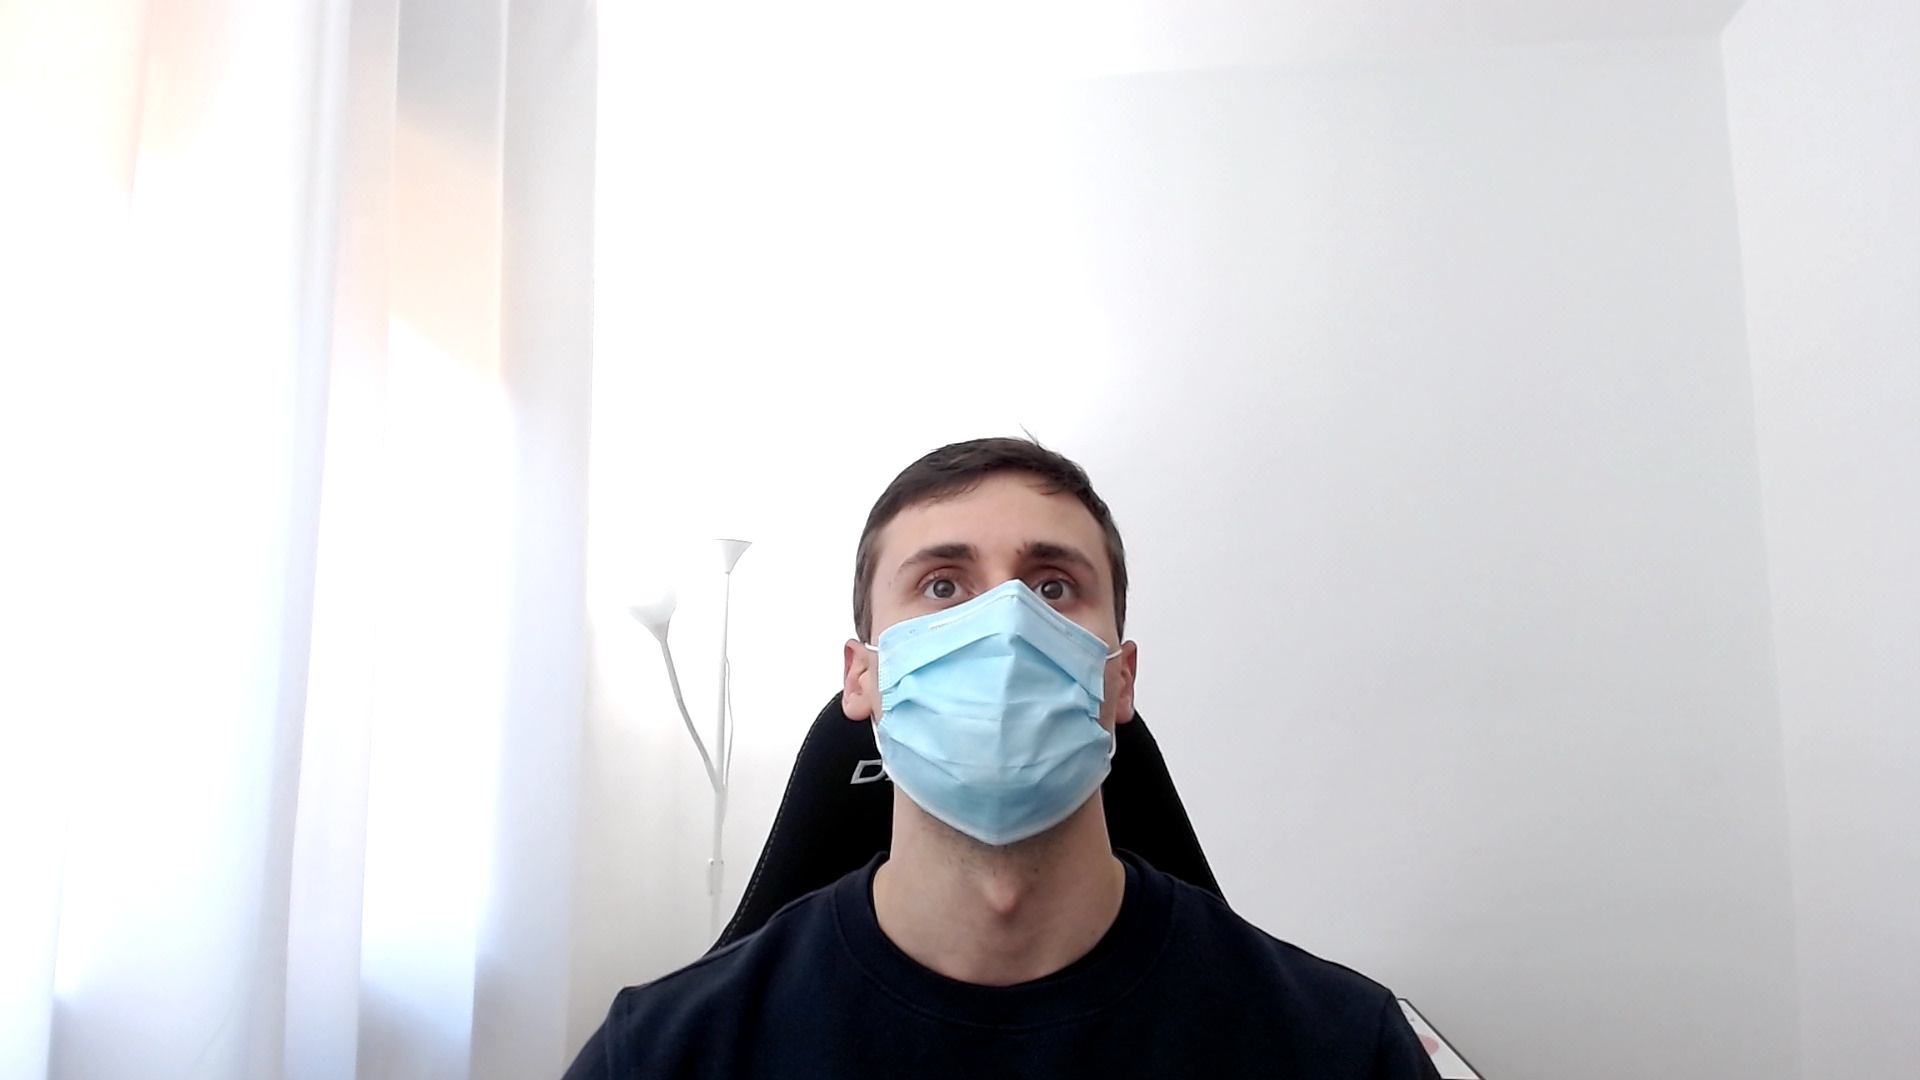Mask: (843, 436, 1139, 847)
